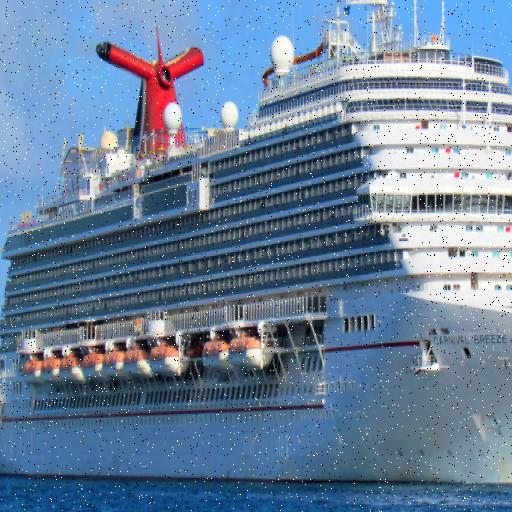cruises: (1, 1, 512, 486)
